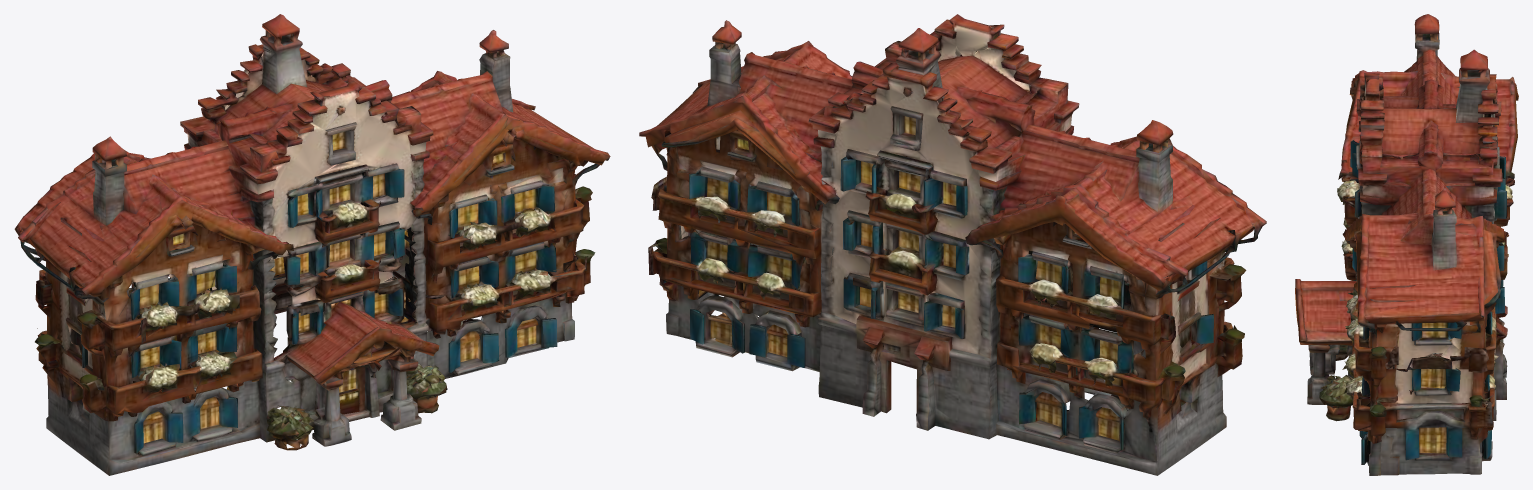
The model's file is candidate.glb.
3 views of the same model, side by side, from view 1: azimuth 30°, elevation 25°; view 2: azimuth 150°, elevation 25°; view 3: azimuth 270°, elevation 25° (orthographic). The views are drawn at different scales.
Visible parts, largest first — view 1: alpine__skyscraper_3__native_mobile; view 2: alpine__skyscraper_3__native_mobile; view 3: alpine__skyscraper_3__native_mobile.
Part boxes in pixels (left/top/right/bottom): alpine__skyscraper_3__native_mobile: left=14, top=14, right=610, bottom=475; alpine__skyscraper_3__native_mobile: left=639, top=14, right=1266, bottom=475; alpine__skyscraper_3__native_mobile: left=1295, top=14, right=1518, bottom=475.
Size of the model in its own units: 1 by 0.6539 by 0.3926.
1 material, 1 textured.
